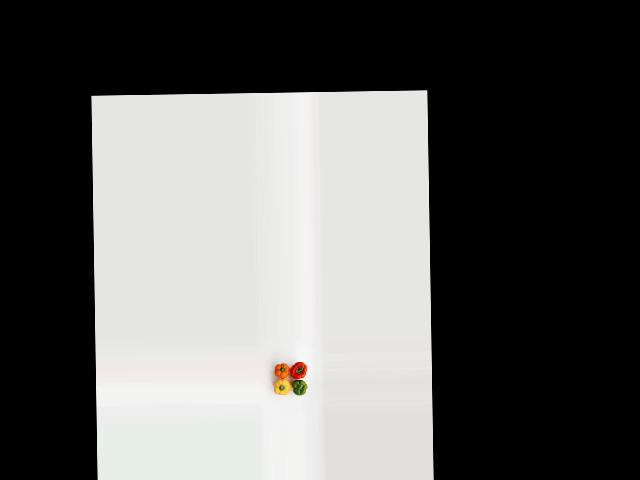bell_pepper: (290, 375, 308, 400)
